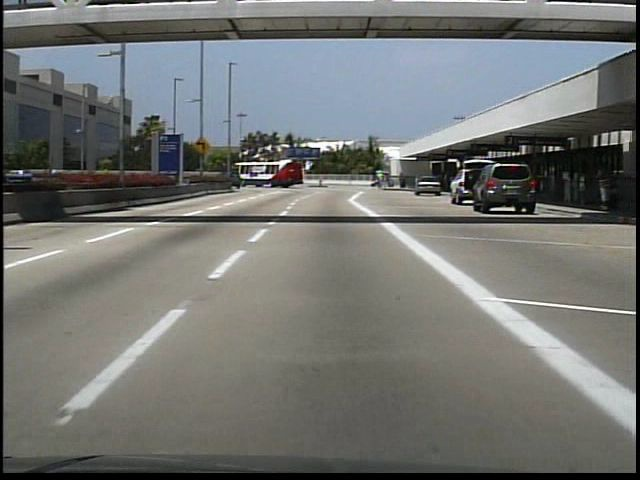person: (592, 164, 614, 212)
